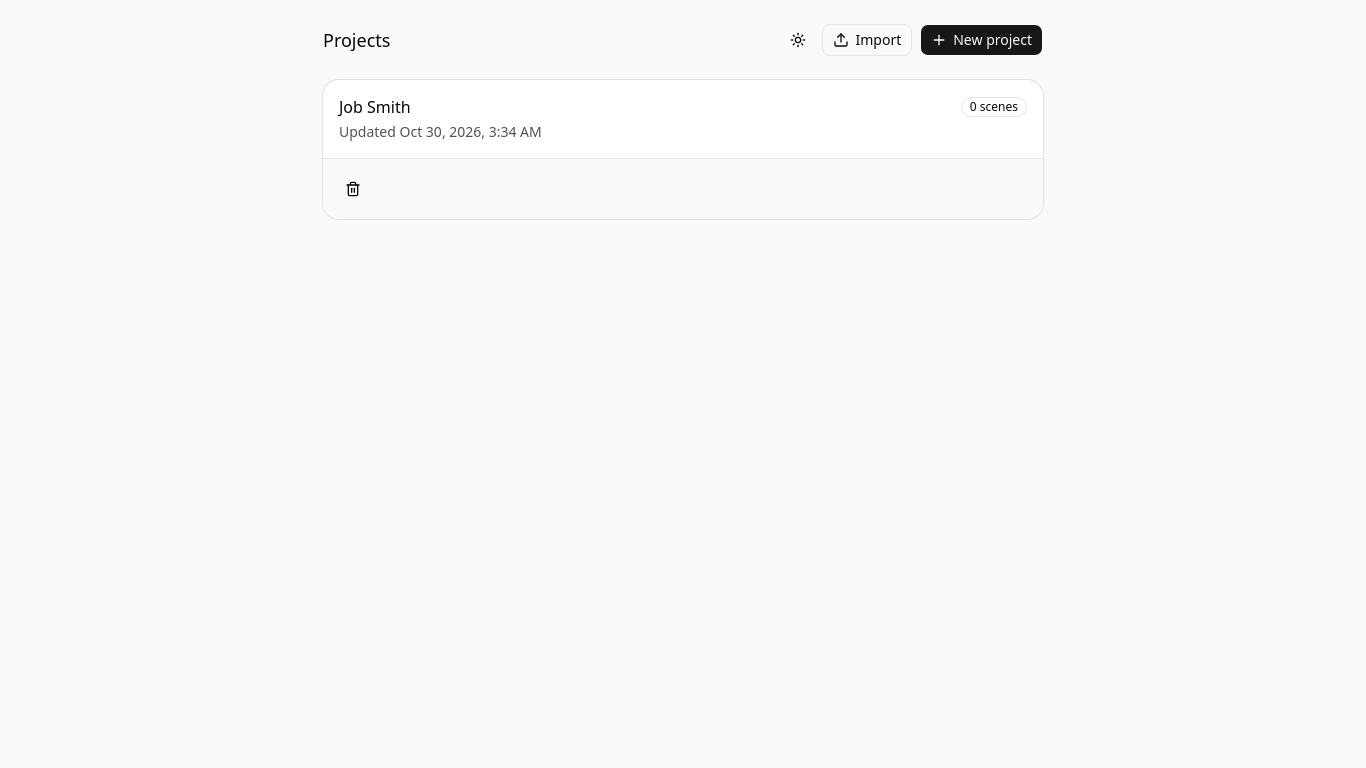
ProjectsPage › lists an existing project and deletes it with confirmation
Expected: the link "Job Smith" is shown, [339,96,411,118]
Click the button named "Delete Job Smith".
click(353, 189)  # box [339,175,367,203]
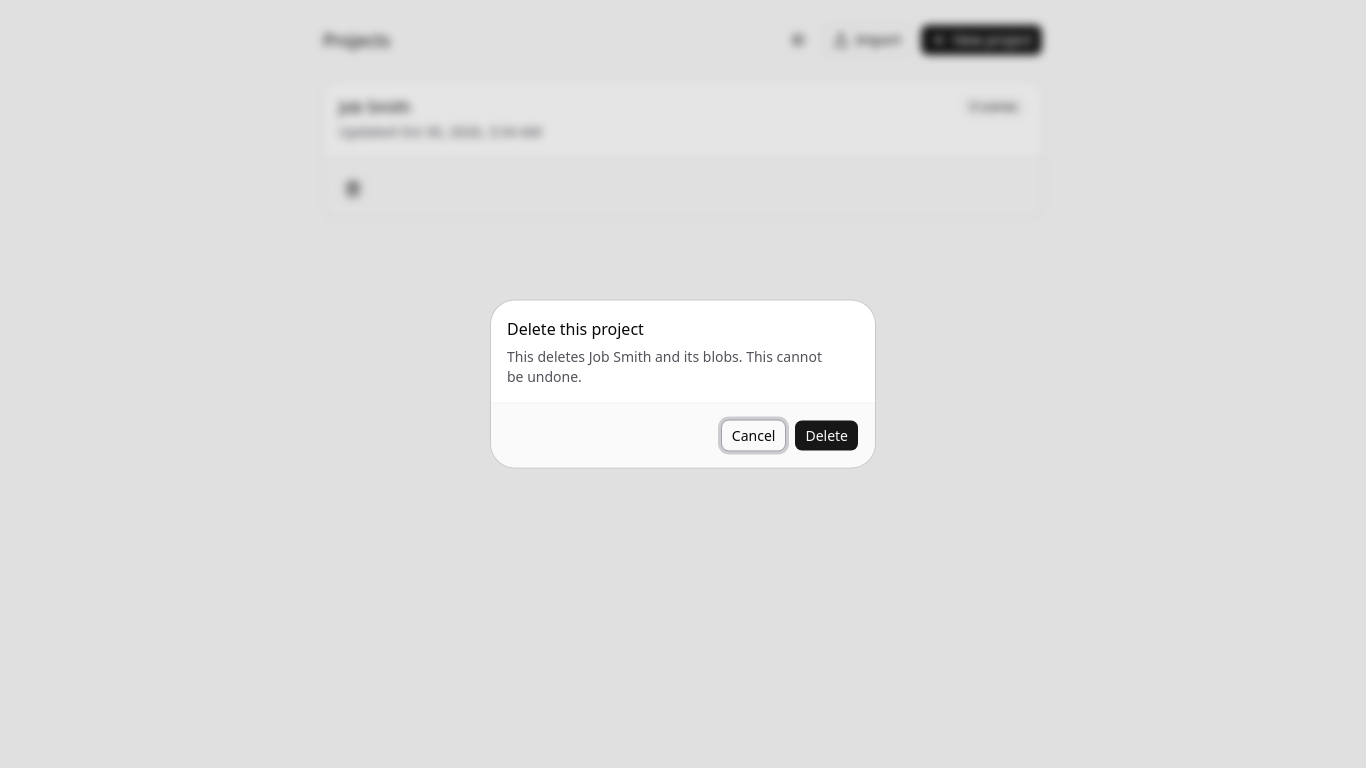
Click the button "Delete".
click(827, 436)  # box [794,420,859,452]
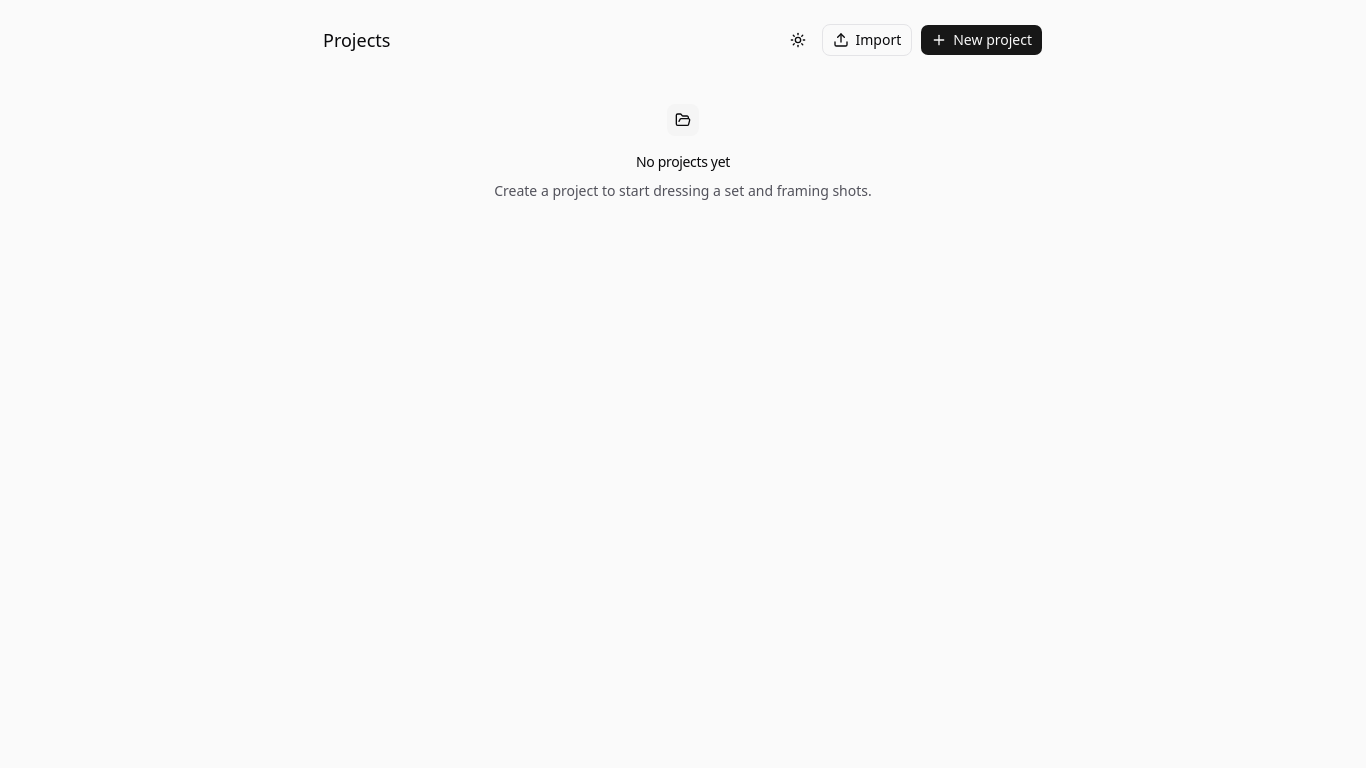
Now the text "No projects yet" is shown, box [636,152,730,172]
